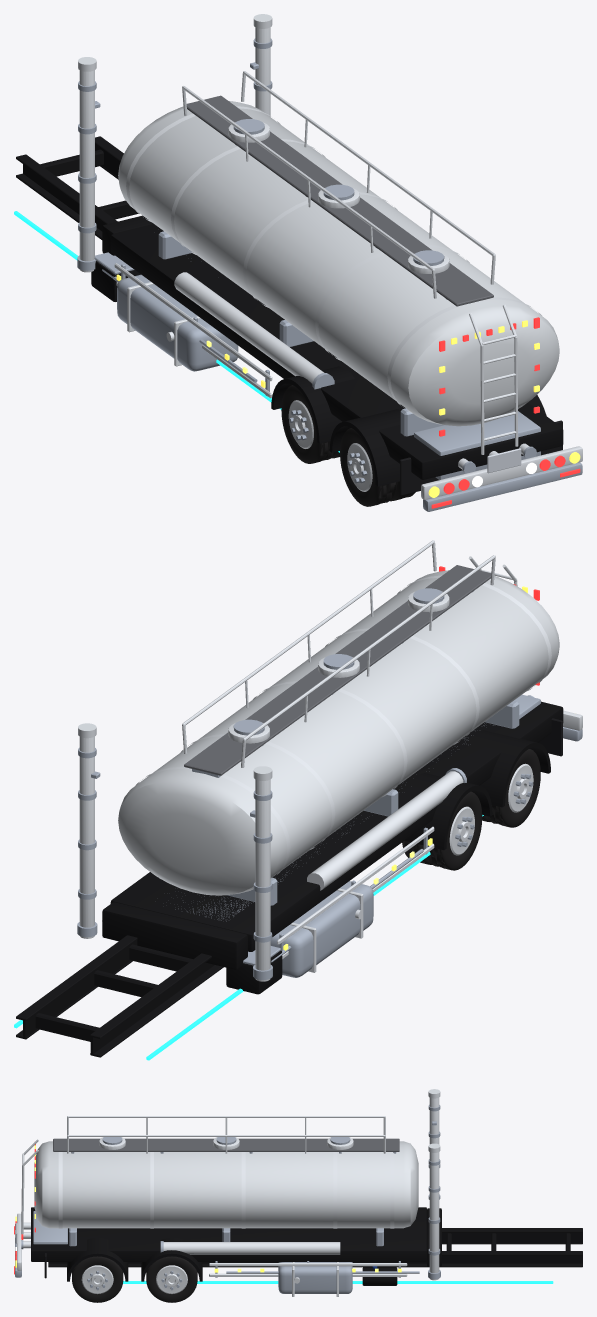
Rendered from body_tanker.glb.
3 views of the same model, one above another, from view 1: azimuth 30°, elevation 25°; view 2: azimuth 150°, elevation 25°; view 3: azimuth 270°, elevation 25° (orthographic). The views are drawn at different scales.
Visible parts, largest first — view 1: truck_tank_shell, frame_plastic_black, truck_chrome, truck_steel, truck_diamond, frame_steel, wheel_r_L_1.5_1.06, wheel_r_L_3.0_1.06, truck_lamp_red, truck_rubber, truck_plastic_black, truck_lamp_amber (+1 smaller); view 2: truck_tank_shell, frame_plastic_black, truck_chrome, truck_diamond, truck_steel, truck_plastic_black, frame_steel, wheel_r_L_3.0_1.06, wheel_r_L_1.5_1.06, frame_lamp_cyan; view 3: truck_tank_shell, frame_plastic_black, truck_chrome, truck_diamond, frame_steel, truck_steel, wheel_r_R_3.0_1.06, wheel_r_R_1.5_1.06, frame_lamp_cyan, truck_plastic_black.
Boxes of the visible parts, box(x1,y1,x2,y2) form: truck_tank_shell: box(118, 101, 559, 426); frame_plastic_black: box(16, 136, 563, 486); truck_chrome: box(78, 14, 582, 499); truck_steel: box(77, 38, 582, 511); truck_diamond: box(186, 95, 493, 306); frame_steel: box(94, 252, 257, 382); wheel_r_L_1.5_1.06: box(340, 428, 397, 506); wheel_r_L_3.0_1.06: box(281, 385, 335, 463); truck_lamp_red: box(431, 317, 580, 508); truck_rubber: box(400, 420, 562, 495); truck_plastic_black: box(102, 215, 153, 255); truck_lamp_amber: box(116, 274, 580, 497); truck_tank_shell: box(118, 570, 559, 895); frame_plastic_black: box(16, 701, 563, 1057); truck_chrome: box(78, 540, 582, 981); truck_diamond: box(184, 565, 491, 775); truck_steel: box(77, 588, 582, 979); truck_plastic_black: box(102, 902, 247, 969); frame_steel: box(243, 849, 423, 977); wheel_r_L_3.0_1.06: box(427, 791, 482, 870); wheel_r_L_1.5_1.06: box(486, 748, 540, 827); frame_lamp_cyan: box(14, 815, 483, 1060); truck_tank_shell: box(34, 1141, 418, 1228); frame_plastic_black: box(31, 1207, 582, 1285); truck_chrome: box(17, 1089, 440, 1280); truck_diamond: box(53, 1138, 399, 1151); frame_steel: box(226, 1262, 419, 1293); truck_steel: box(15, 1104, 440, 1279); wheel_r_R_3.0_1.06: box(146, 1256, 197, 1302); wheel_r_R_1.5_1.06: box(72, 1256, 123, 1302); frame_lamp_cyan: box(123, 1281, 553, 1283); truck_plastic_black: box(427, 1208, 441, 1267).
Size of the model in its own units: 2.85 by 3.55 by 11.49.
Materials: 14 (2 with a texture image).
